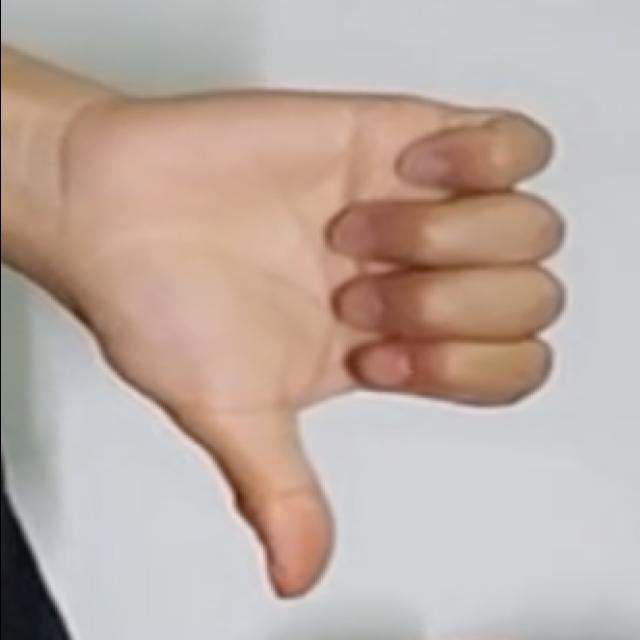A: (65, 74, 580, 606)
